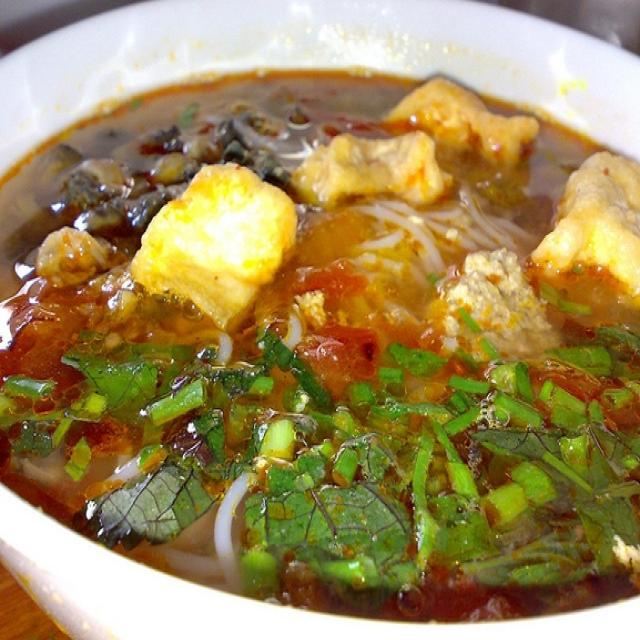面条主食: (8, 10, 619, 618)
